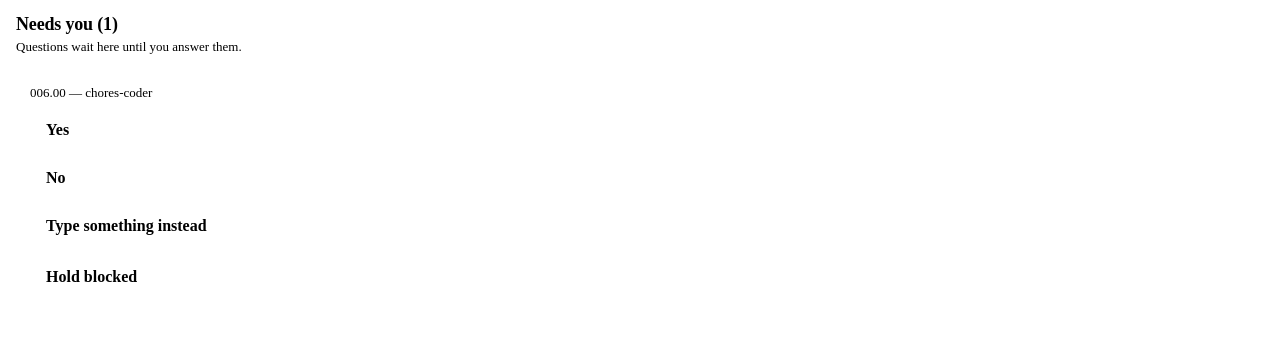
Test: NeedsYou › answers a yes/no question with its buttons, or opens the box under them to type something instead
Click the button "Type something instead". click: x=126, y=226
box: [30,207,1230,247]
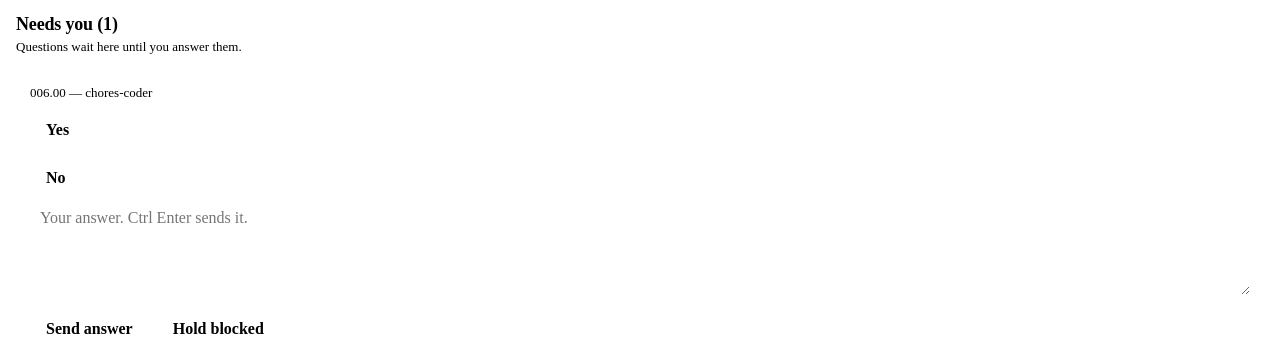
Expected: the button "Yes" is shown, [30,111,1230,151]
Result: the text box labelled "Your answer" is shown at [30,199,1250,295]
Result: the button "Type something instead" is gone
